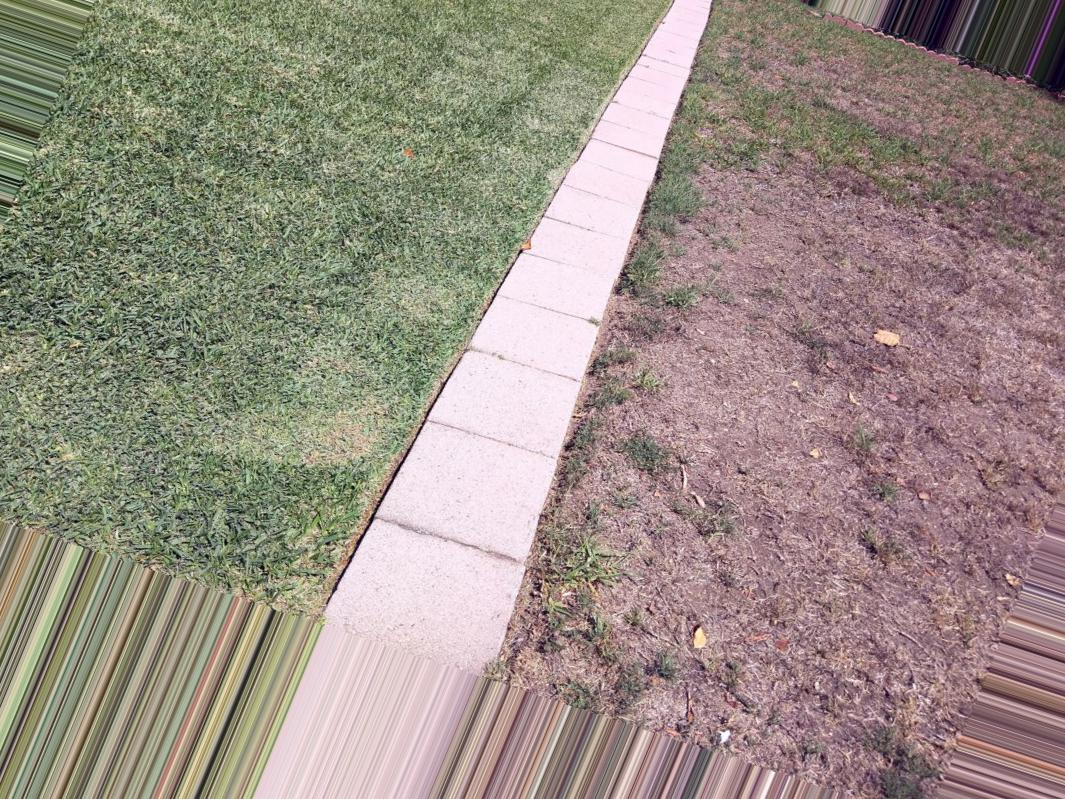patch: (637, 518, 875, 650), (694, 282, 810, 476), (901, 389, 1014, 517), (790, 72, 970, 143), (701, 659, 850, 742), (951, 250, 1048, 366), (889, 552, 978, 669), (742, 170, 842, 266), (881, 215, 939, 367), (818, 385, 871, 467), (615, 343, 664, 430), (542, 632, 619, 679), (639, 676, 692, 727)
